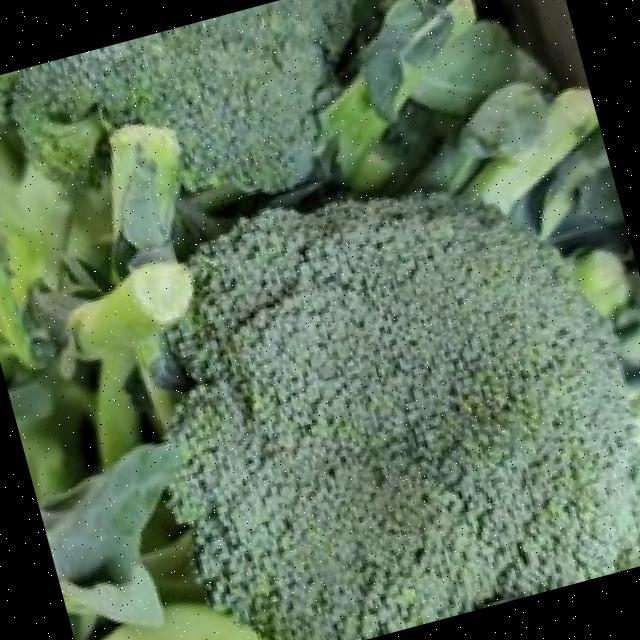Broccoli: (172, 196, 640, 640), (172, 196, 640, 640), (19, 0, 358, 190), (19, 0, 357, 190)
